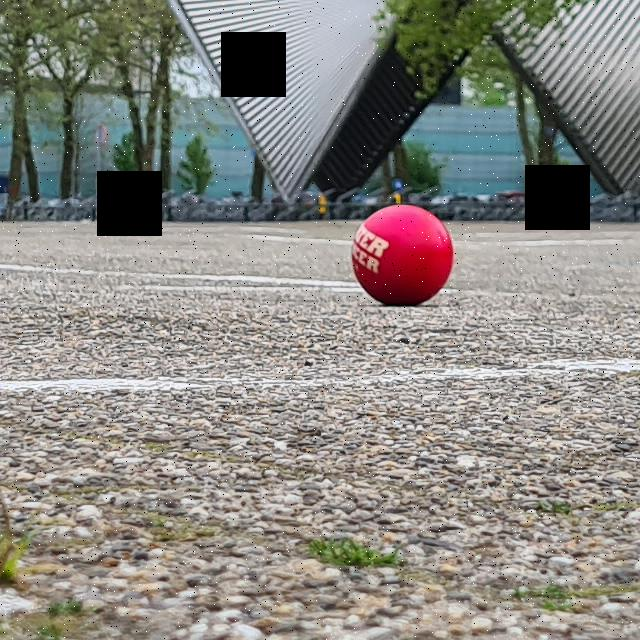ball: (350, 199, 457, 305)
